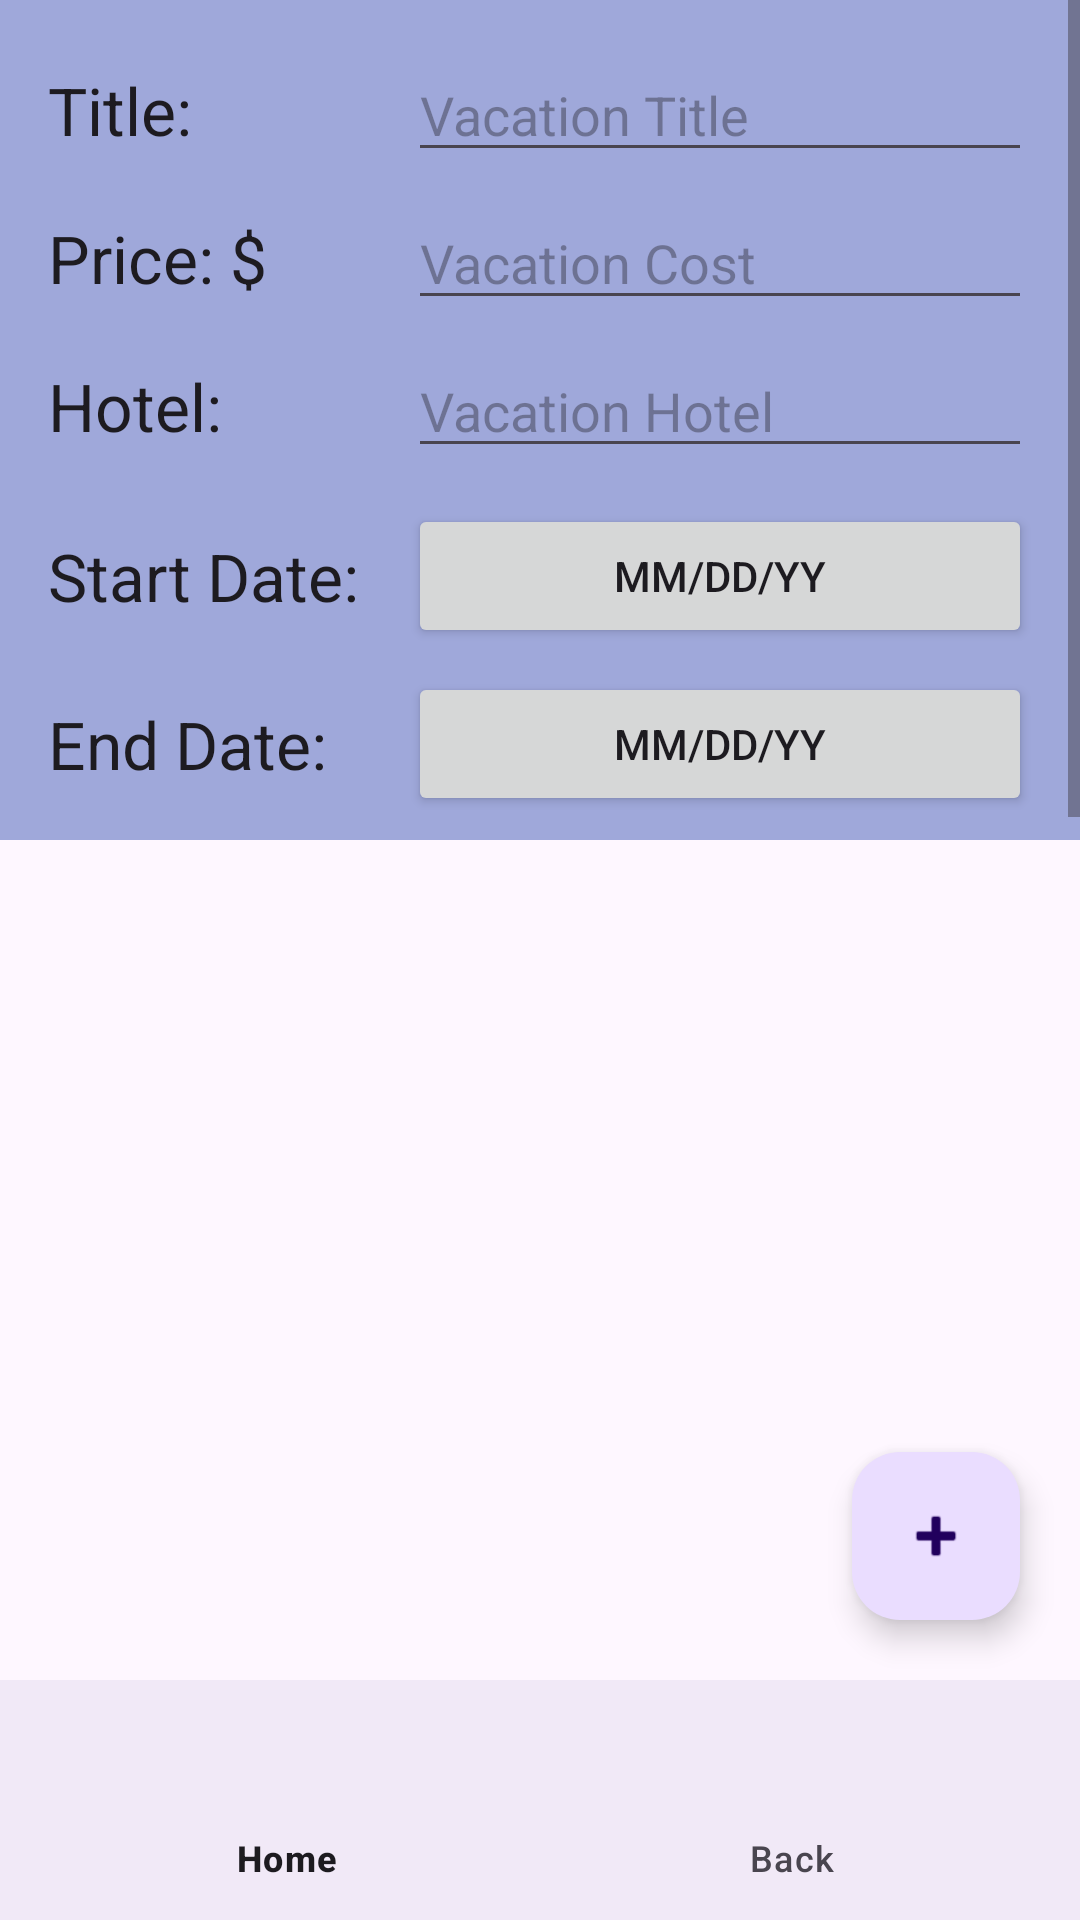

Point at icon controls on the screen. Image size 1080px x 1920px, points as [x,y].
add: [936,1536]
